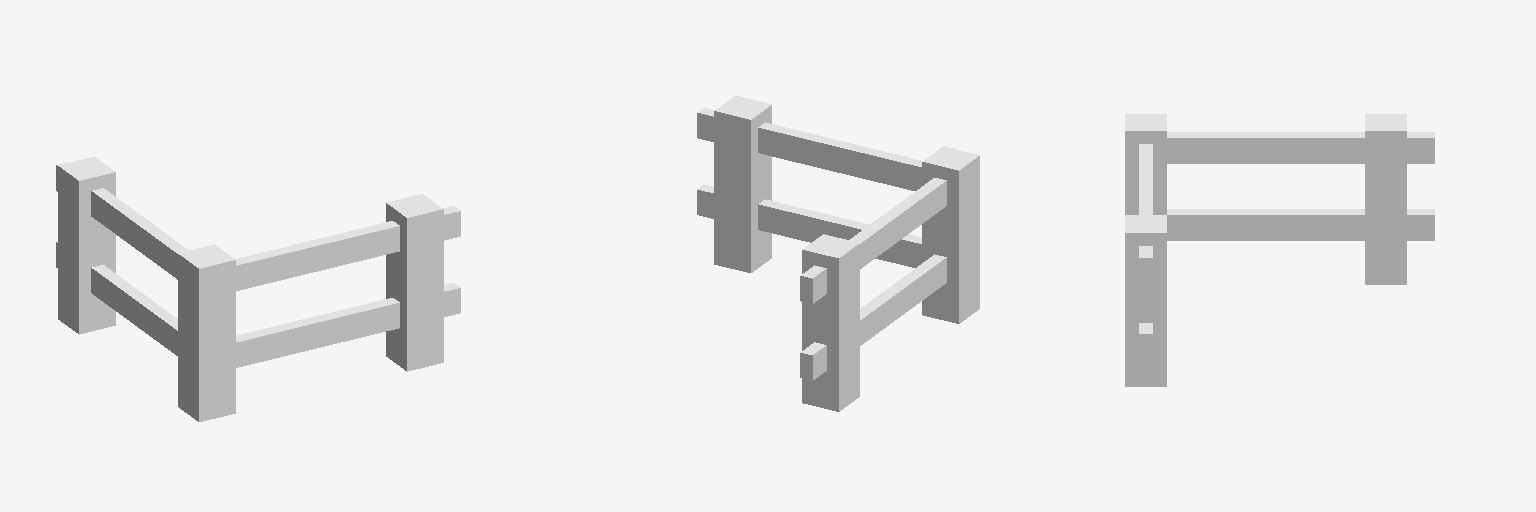
The model's file is Fence_Corner.obj.
The picture shows the model from 3 angles: view 1: azimuth 30°, elevation 25°; view 2: azimuth 150°, elevation 25°; view 3: azimuth 270°, elevation 25°; orthographic projection.
Parts seen in each view (by area): view 1: Fence_Corner; view 2: Fence_Corner; view 3: Fence_Corner.
Boxes of the visible parts, x1=… form: Fence_Corner: x1=56, y1=157, x2=460, y2=421; Fence_Corner: x1=697, y1=96, x2=979, y2=411; Fence_Corner: x1=1125, y1=114, x2=1434, y2=386.
Bounding box in the file's own units: 22 × 12 × 22.